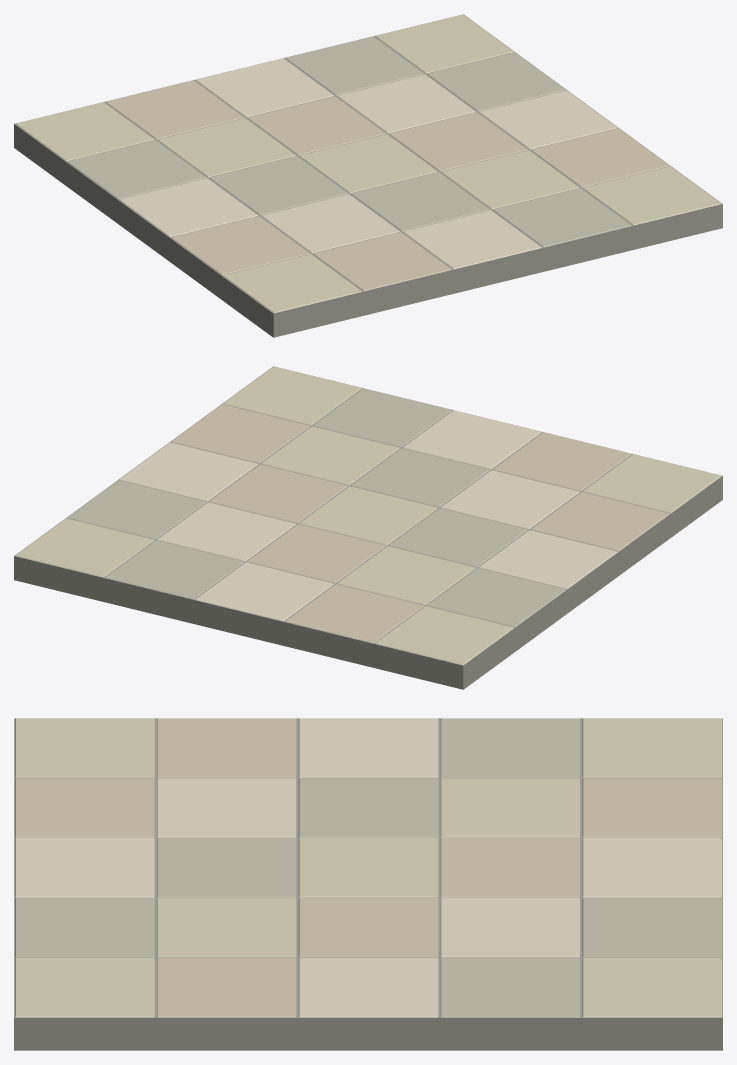
Rendered from floor_patio.glb.
3 views of the same model, one above another, from view 1: azimuth 30°, elevation 25°; view 2: azimuth 150°, elevation 25°; view 3: azimuth 270°, elevation 25° (orthographic). The views are drawn at different scales.
Visible parts, largest first — view 1: Placa cerâmica, Placa cerâmica.001, Placa cerâmica.002, Placa cerâmica.003, Rejunte; view 2: Placa cerâmica, Placa cerâmica.001, Placa cerâmica.002, Placa cerâmica.003, Rejunte; view 3: Placa cerâmica, Placa cerâmica.002, Placa cerâmica.003, Placa cerâmica.001, Rejunte.
Part boxes in pixels (x1,y1,x2,y2): Placa cerâmica: [15, 14, 721, 312]; Placa cerâmica.001: [105, 80, 669, 291]; Placa cerâmica.002: [119, 58, 617, 269]; Placa cerâmica.003: [67, 36, 631, 247]; Rejunte: [14, 14, 722, 337]; Placa cerâmica: [15, 366, 721, 664]; Placa cerâmica.001: [171, 404, 669, 643]; Placa cerâmica.002: [119, 410, 617, 621]; Placa cerâmica.003: [67, 388, 565, 626]; Rejunte: [14, 366, 722, 689]; Placa cerâmica: [15, 718, 721, 1017]; Placa cerâmica.002: [15, 718, 721, 1017]; Placa cerâmica.003: [15, 718, 721, 1017]; Placa cerâmica.001: [15, 718, 721, 1017]; Rejunte: [14, 718, 722, 1050].
Bounding box in the file's own units: 2.5 × 0.1309 × 2.5.
